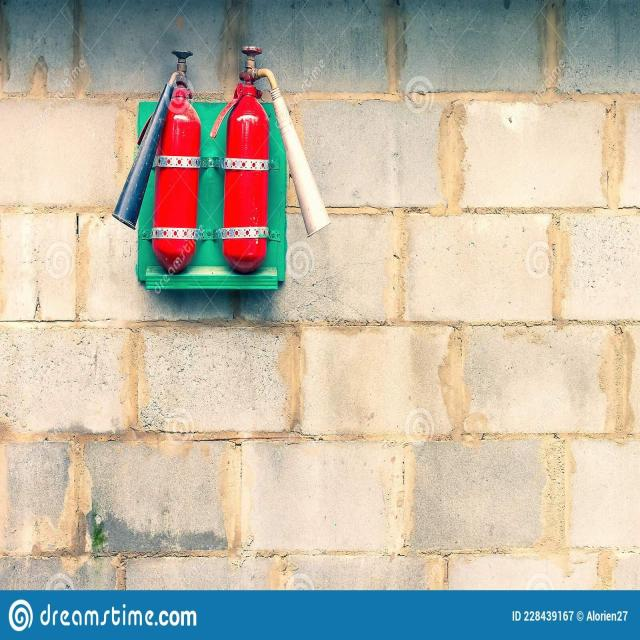fire_extinguisher: (207, 42, 334, 274), (108, 47, 204, 277)
